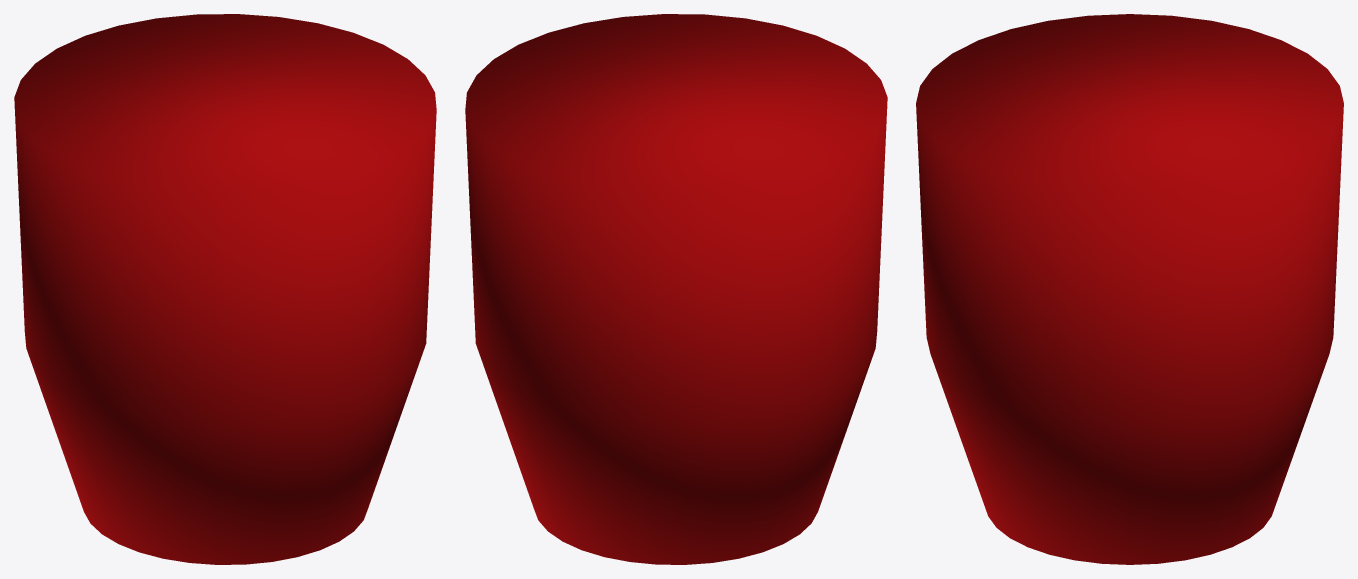
The model's file is bar_glass_filling_water.obj.
3 renders of one model, left to right at view 1: azimuth 30°, elevation 25°; view 2: azimuth 150°, elevation 25°; view 3: azimuth 270°, elevation 25°, orthographic.
Parts seen in each view (by area): view 1: bar_glass_filling_water; view 2: bar_glass_filling_water; view 3: bar_glass_filling_water.
Boxes of the visible parts, x1,y1,x2,y2 form: bar_glass_filling_water: [14, 14, 436, 564]; bar_glass_filling_water: [465, 14, 887, 564]; bar_glass_filling_water: [916, 14, 1343, 564].
Bounding box in the file's own units: 0.1245 × 0.1305 × 0.1261.
